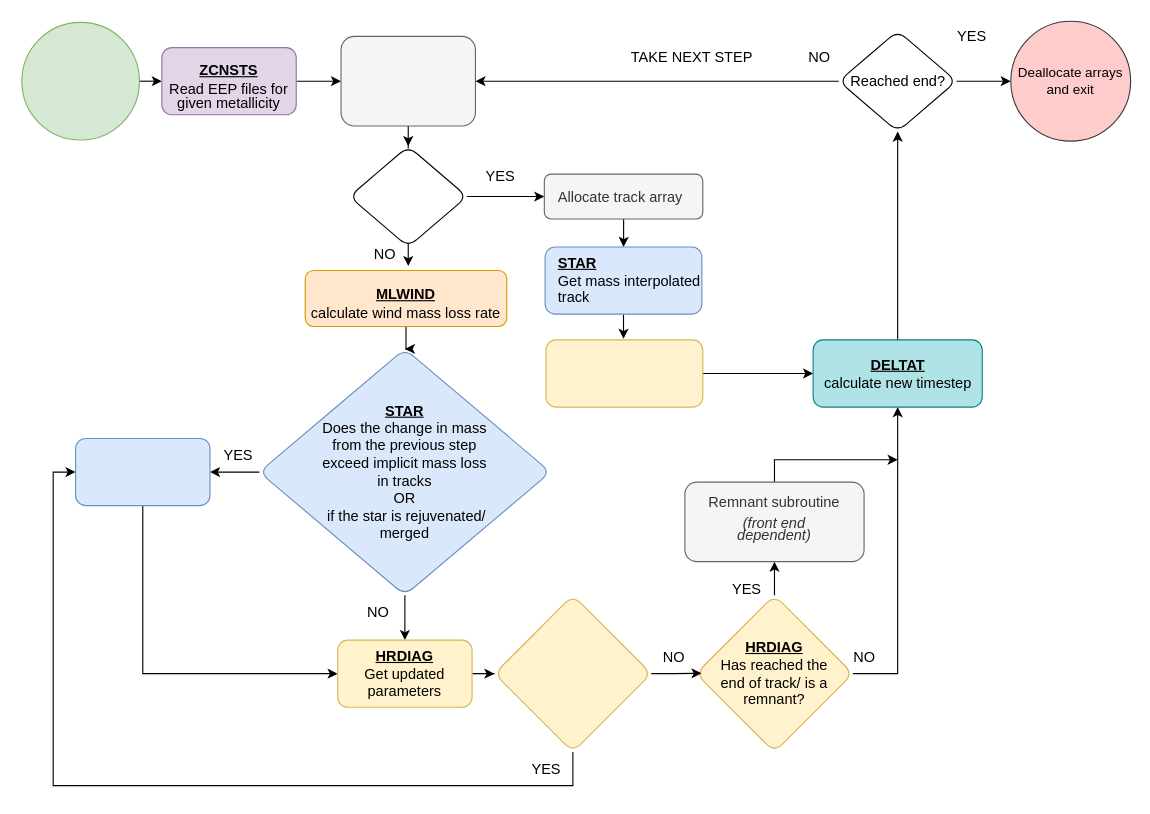
This 1150x814 diagram has some shape labels left out. Here are the shapes that lost their labels. From the top down, the centre of each, then its label:
(80,80): Initialize front end
(407,80): Evolve subroutine (front end dependent)
(407,196): Initial Step?
(624,373): HRDIAG Get initial parameters
(142,471): STAR Get new track
(572,673): HRDIAG Has transitioned to a stripped star?
